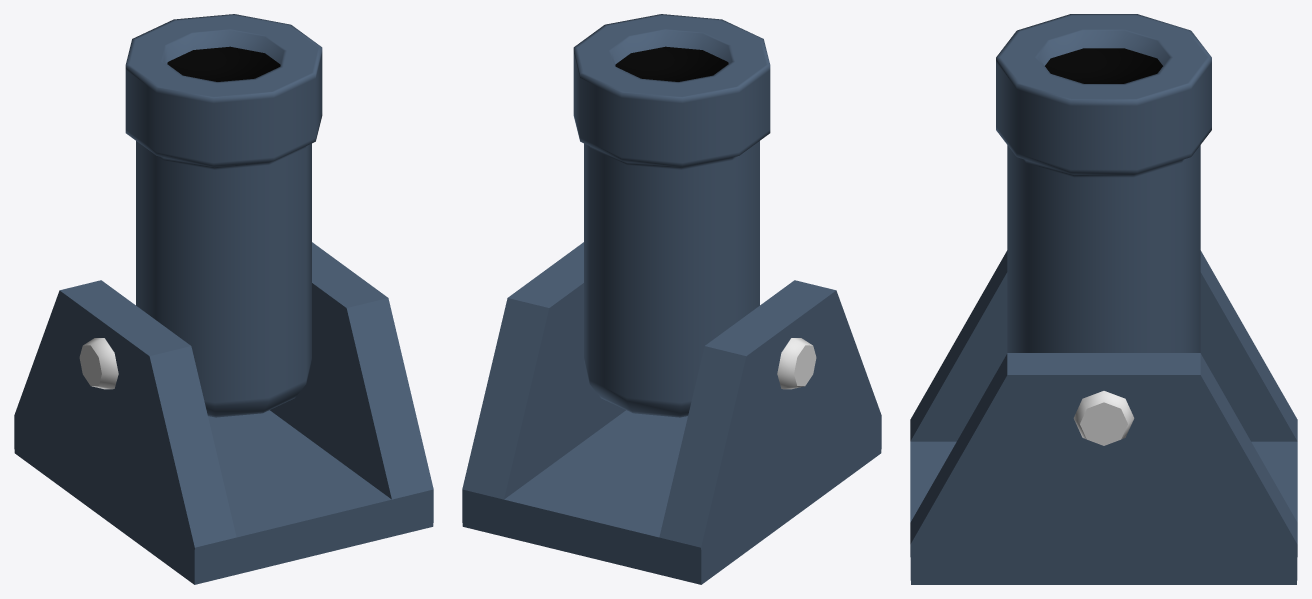
The model's file is cannon.fbx.
3 renders of one model, left to right at view 1: azimuth 30°, elevation 25°; view 2: azimuth 150°, elevation 25°; view 3: azimuth 270°, elevation 25°, orthographic. The views are drawn at different scales.
Parts seen in each view (by area): view 1: Base, Berrel; view 2: Base, Berrel; view 3: Base, Berrel.
Boxes of the visible parts, x1,y1,x2,y2 form: Base: [14, 242, 433, 584]; Berrel: [125, 14, 322, 417]; Base: [462, 242, 881, 584]; Berrel: [573, 14, 770, 417]; Base: [910, 250, 1297, 584]; Berrel: [996, 14, 1211, 352].
Bounding box in the file's own units: 171 × 266 × 201.
